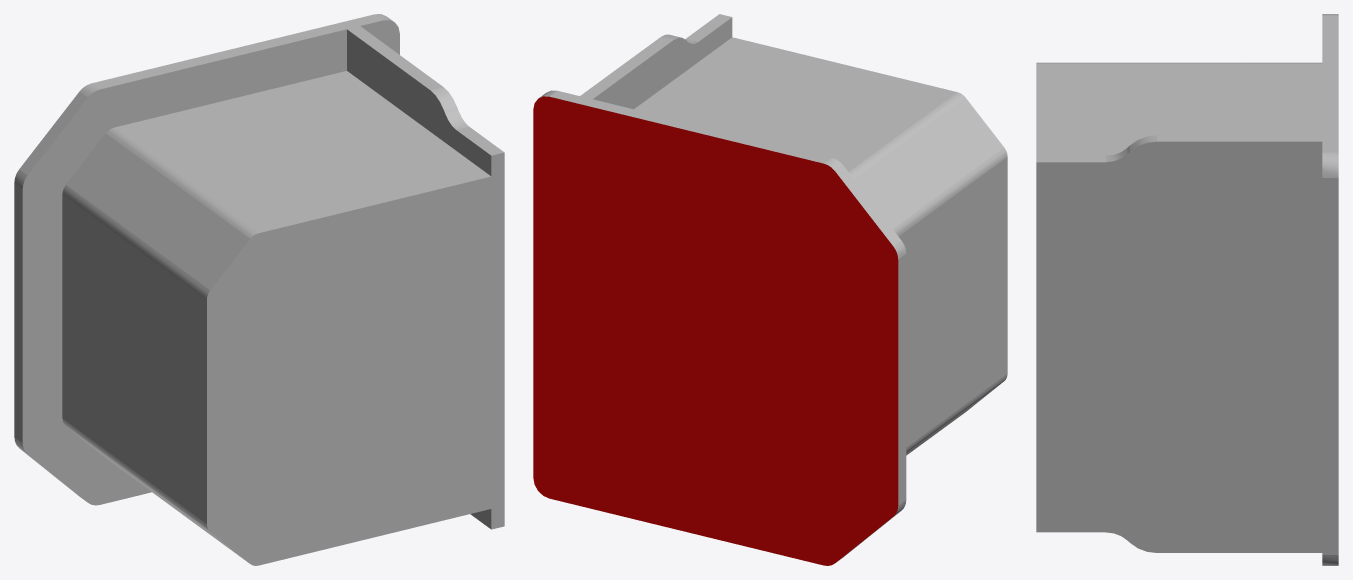
Rendered from Driver_Base_P1.dae.
The picture shows the model from 3 angles, left to right: view 1: azimuth 30°, elevation 25°; view 2: azimuth 150°, elevation 25°; view 3: azimuth 270°, elevation 25°; orthographic projection. The views are drawn at different scales.
Parts seen in each view (by area): view 1: Node_0000029F8AFBA4B0; view 2: Node_0000029F8AFBA4B0 (×2); view 3: Node_0000029F8AFBA4B0.
Boxes of the visible parts, x1,y1,x2,y2 form: Node_0000029F8AFBA4B0: (14,14,504,565); Node_0000029F8AFBA4B0 (×2): (533,14,1007,565); Node_0000029F8AFBA4B0: (1036,14,1338,565).
Size of the model in its own units: 0.57 by 0.6 by 0.4.
